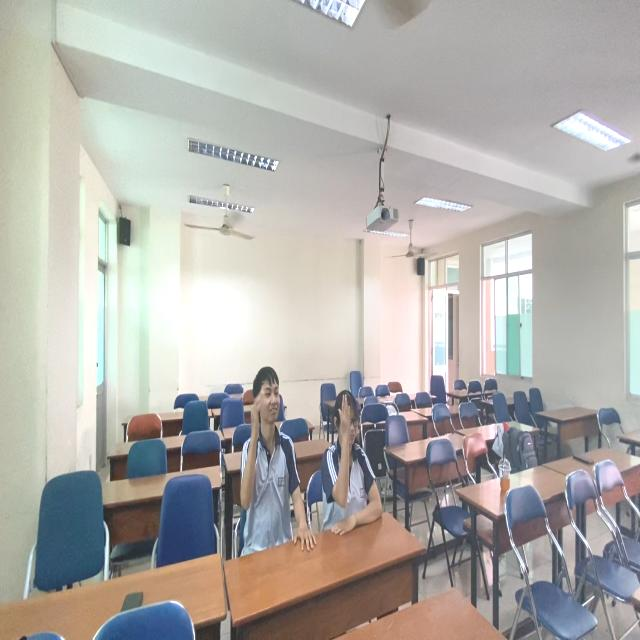raise_hand: (239, 365, 305, 548), (326, 389, 388, 547)
